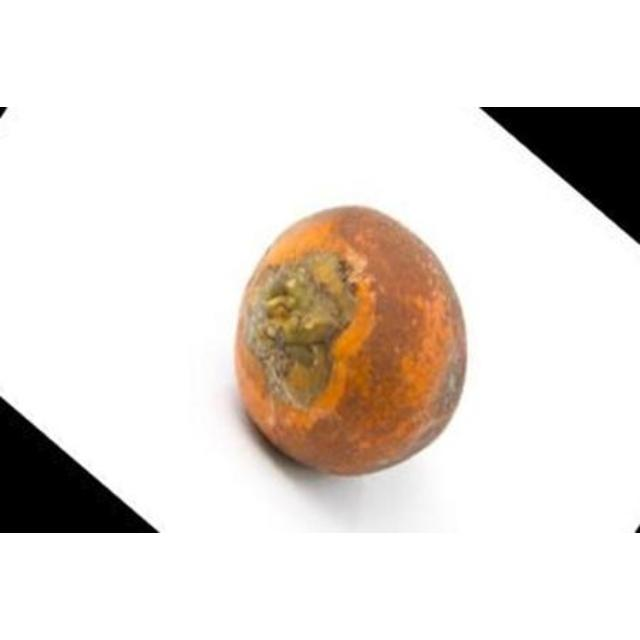good: (235, 208, 469, 480)
